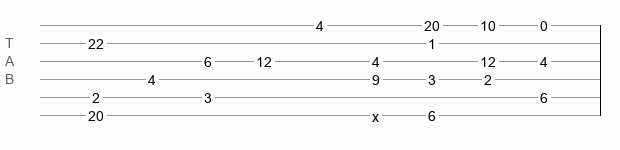0: (540, 18, 548, 28)
1: (428, 36, 436, 46)
10: (480, 18, 496, 28)
12: (256, 54, 272, 64), (480, 54, 496, 64)
2: (92, 90, 100, 100), (484, 72, 492, 82)
20: (88, 108, 104, 118), (424, 18, 440, 28)
22: (88, 36, 104, 46)
3: (204, 90, 212, 100), (428, 72, 436, 82)
4: (148, 72, 156, 82), (316, 18, 324, 28), (372, 54, 380, 64), (540, 54, 548, 64)
6: (204, 54, 212, 64), (428, 108, 436, 118), (540, 90, 548, 100)
9: (372, 72, 380, 82)
x: (372, 109, 379, 117)
